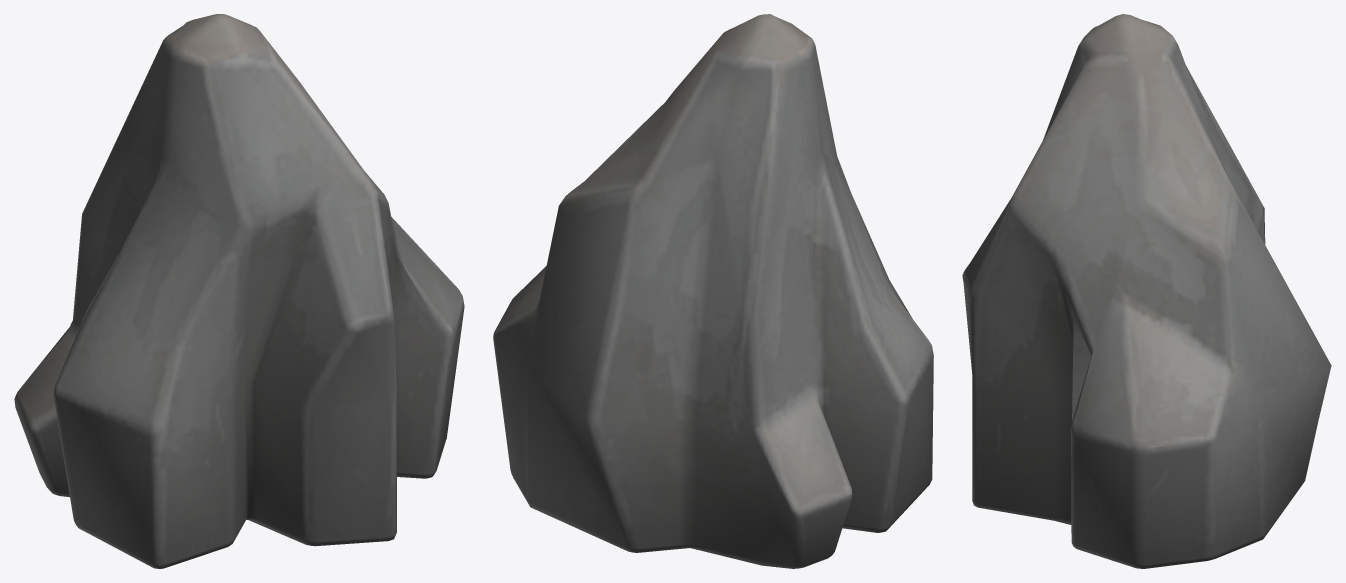
The model's file is NormalRocks10V2.fbx.
3 renders of one model, left to right at view 1: azimuth 30°, elevation 25°; view 2: azimuth 150°, elevation 25°; view 3: azimuth 270°, elevation 25°, orthographic. The views are drawn at different scales.
Visible parts, largest first — view 1: NormalRocks10V2; view 2: NormalRocks10V2; view 3: NormalRocks10V2.
Part boxes in pixels (x1,y1,x2,y2): NormalRocks10V2: (14, 14, 464, 568); NormalRocks10V2: (493, 14, 933, 568); NormalRocks10V2: (962, 14, 1331, 568).
Bounding box in the file's own units: 2.03 × 2.35 × 1.74.
